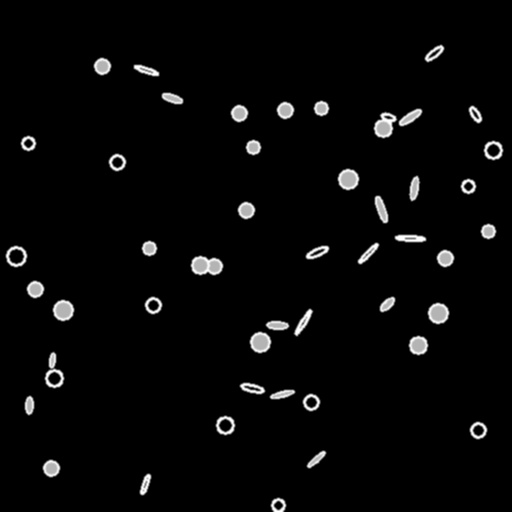pseudomonas: (293, 309, 313, 335), (357, 242, 379, 264), (373, 195, 389, 223), (398, 108, 422, 126), (424, 44, 444, 62), (306, 450, 326, 468), (306, 244, 328, 260), (240, 382, 264, 394), (134, 64, 158, 76), (161, 92, 183, 104), (379, 296, 395, 312), (468, 105, 482, 123), (139, 474, 151, 494), (409, 177, 419, 199), (271, 389, 293, 399), (396, 235, 424, 241), (267, 321, 287, 329), (380, 112, 396, 122), (48, 352, 56, 368), (26, 396, 32, 414)
synechocystis: (7, 247, 25, 265), (251, 333, 269, 351), (339, 170, 357, 188), (429, 304, 447, 322), (54, 301, 72, 319), (410, 337, 426, 353), (217, 417, 233, 433), (375, 120, 391, 136), (46, 370, 62, 386), (192, 257, 208, 273), (485, 142, 501, 158), (471, 423, 485, 437), (232, 106, 246, 120), (28, 282, 42, 296), (110, 155, 124, 169), (207, 259, 221, 273), (304, 395, 318, 409), (438, 251, 452, 265), (95, 59, 109, 73), (239, 203, 253, 217), (44, 461, 58, 475), (146, 298, 160, 312), (278, 103, 292, 117), (272, 499, 284, 511), (482, 225, 494, 237), (22, 137, 34, 149), (315, 102, 327, 114), (247, 141, 259, 153), (462, 180, 474, 192), (143, 242, 155, 254)
